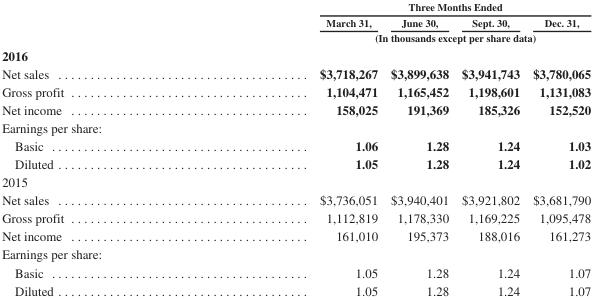table: (1, 0, 590, 297)
table column: (191, 0, 383, 297), (1, 0, 191, 297), (383, 0, 454, 297), (454, 0, 525, 297), (525, 0, 590, 297)
table column header: (1, 0, 590, 45)
table projected row header: (1, 45, 590, 63), (1, 118, 590, 136), (1, 172, 590, 190), (1, 245, 590, 263)
table row: (1, 63, 590, 82), (1, 226, 590, 245), (1, 45, 590, 63), (1, 82, 590, 100), (1, 100, 590, 118), (1, 118, 590, 136), (1, 136, 590, 154), (1, 154, 590, 172), (1, 172, 590, 190), (1, 190, 590, 208), (1, 208, 590, 226), (1, 245, 590, 263), (1, 263, 590, 281), (1, 14, 590, 30), (1, 281, 590, 297), (1, 30, 590, 45), (1, 0, 590, 14)
table spanning cell: (191, 30, 590, 45), (191, 0, 590, 14)
